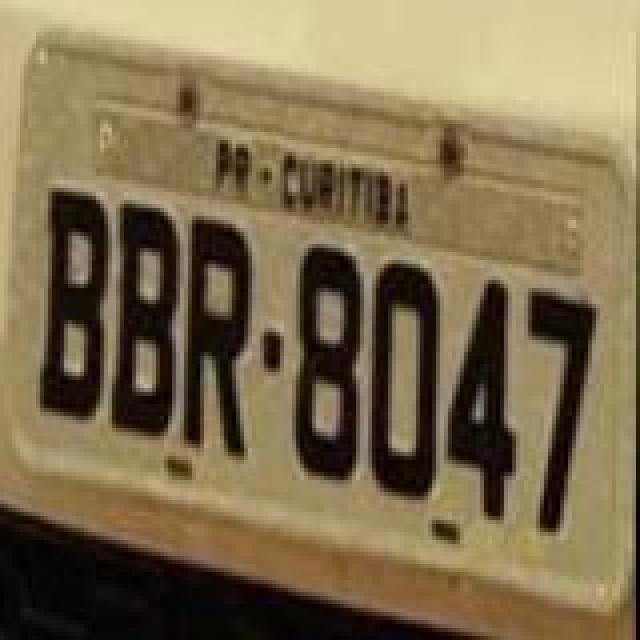4: (446, 280, 518, 520)
7: (530, 288, 602, 536)
8: (290, 242, 362, 478)
B: (38, 188, 110, 420), (112, 200, 180, 440)
O: (370, 260, 442, 500)
R: (184, 214, 252, 458)
